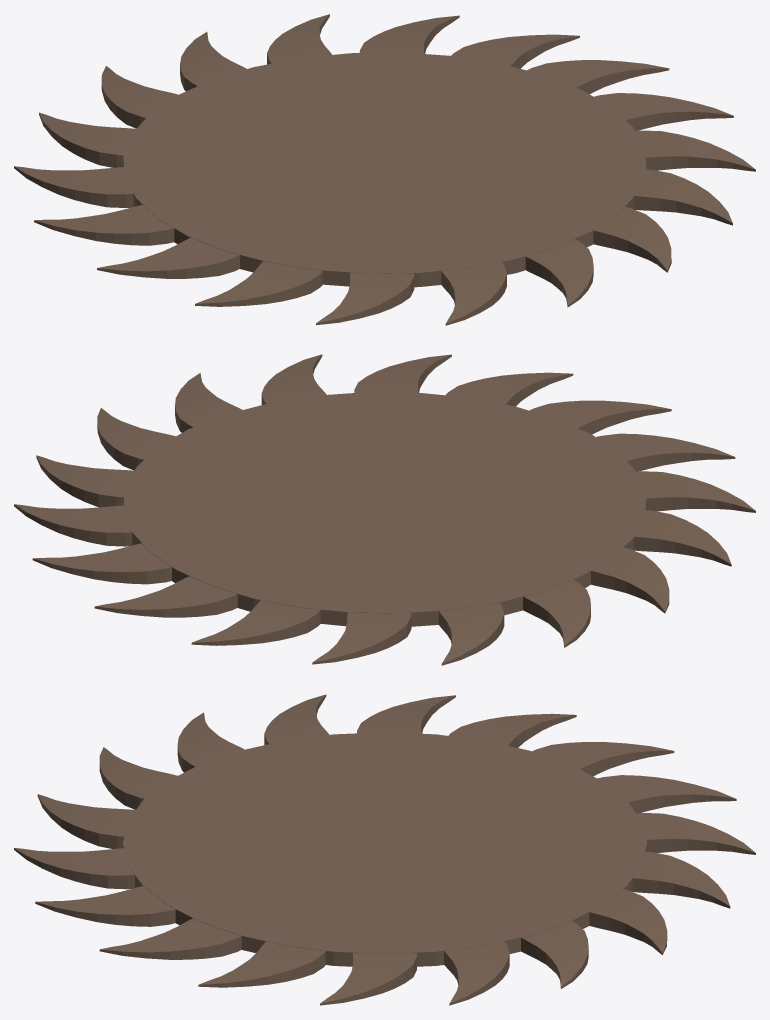
The model's file is testere.fbx.
The picture shows the model from 3 angles, top to bottom: view 1: azimuth 30°, elevation 25°; view 2: azimuth 150°, elevation 25°; view 3: azimuth 270°, elevation 25°; orthographic projection.
Parts seen in each view (by area): view 1: Cube; view 2: Cube; view 3: Cube.
Part boxes in pixels (left/top/right/bottom): Cube: left=14, top=14, right=755, bottom=325; Cube: left=14, top=354, right=755, bottom=665; Cube: left=14, top=694, right=755, bottom=1005.
Bounding box in the file's own units: 622 × 13.3 × 630.
